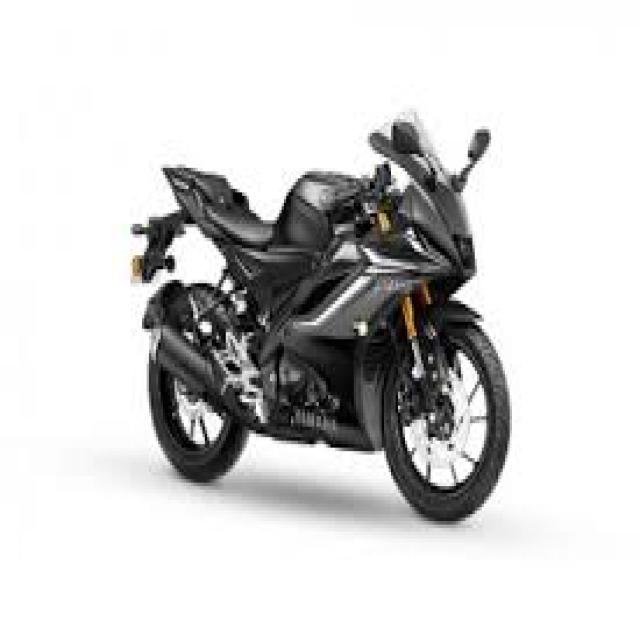bike: (130, 102, 510, 524)
